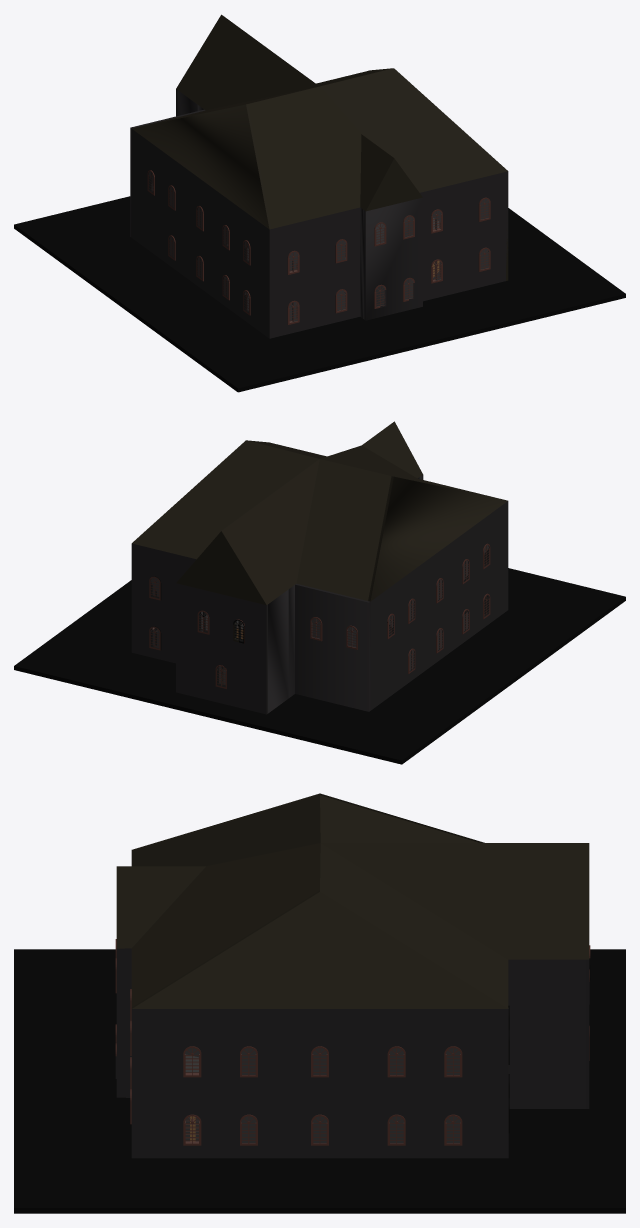
The model's file is oksford.fbx.
3 views of the same model, one above another, from view 1: azimuth 30°, elevation 25°; view 2: azimuth 150°, elevation 25°; view 3: azimuth 270°, elevation 25° (orthographic). The views are drawn at different scales.
Parts seen in each view (by area): view 1: 屋根, i家外の壁, y床, m窓枠; view 2: i家外の壁, 屋根, y床, m窓枠; view 3: 屋根, i家外の壁, y床, m窓枠.
Boxes of the visible parts, bbox=[...] form: 屋根: bbox=[132, 14, 507, 229]; i家外の壁: bbox=[130, 89, 508, 338]; y床: bbox=[14, 171, 625, 392]; m窓枠: bbox=[147, 170, 490, 324]; i家外の壁: bbox=[131, 475, 508, 714]; 屋根: bbox=[132, 421, 507, 605]; y床: bbox=[14, 545, 625, 764]; m窓枠: bbox=[149, 543, 490, 688]; 屋根: bbox=[116, 793, 589, 1008]; i家外の壁: bbox=[115, 948, 589, 1158]; y床: bbox=[14, 949, 625, 1213]; m窓枠: bbox=[115, 939, 590, 1145].
Size of the model in its own units: 32482 by 14159 by 32482.
